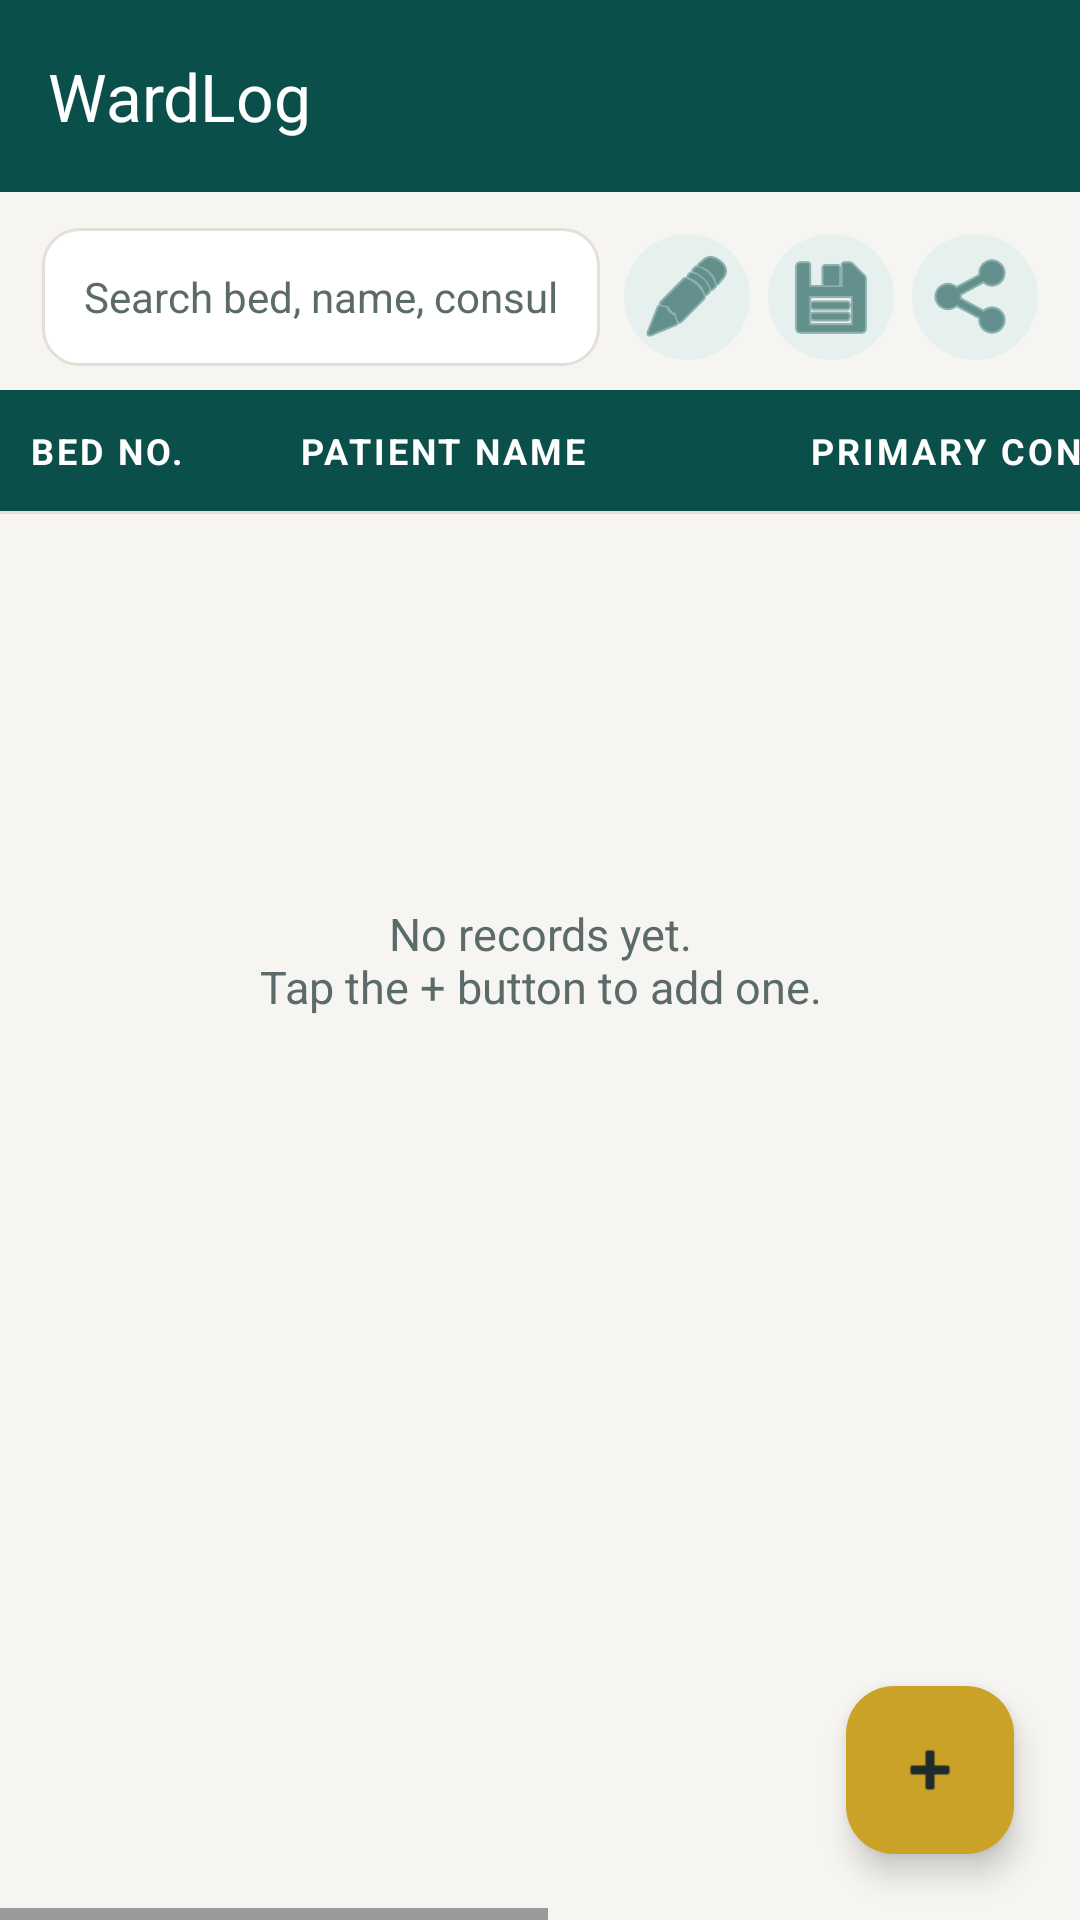

Icons on this 1080w x 1920h Android screen, each with its box as (x1, y1, x2, y2):
add: (846, 1686, 1014, 1854)
